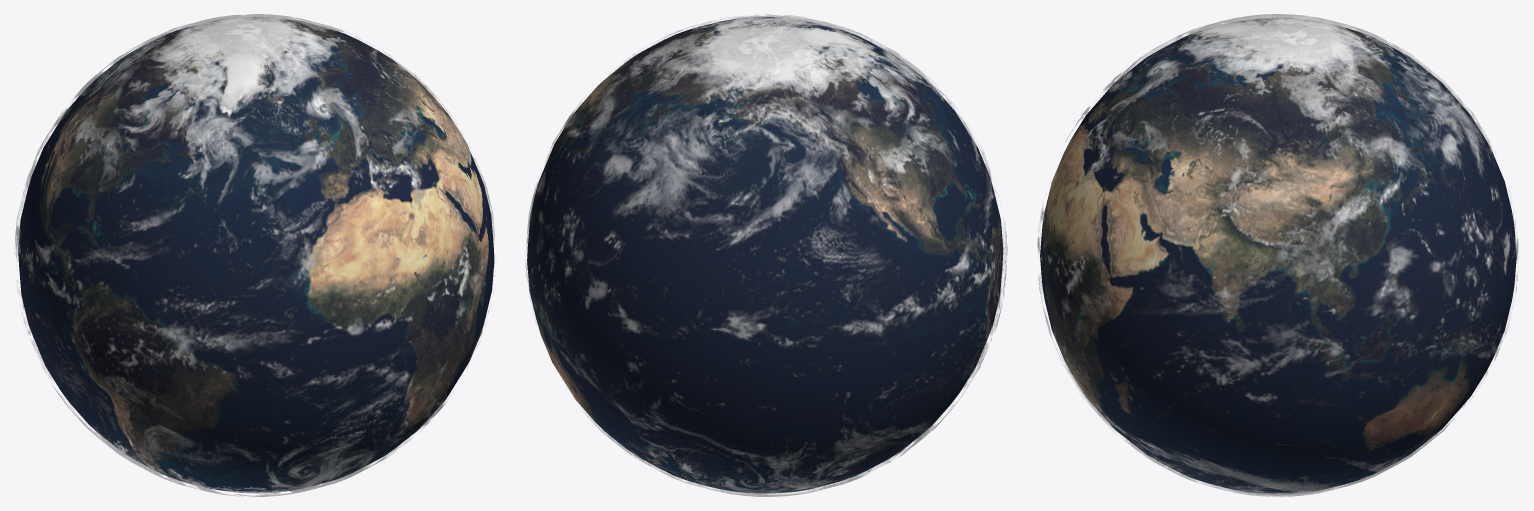
File: planet_earth.glb
3 renders of one model, left to right at view 1: azimuth 30°, elevation 25°; view 2: azimuth 150°, elevation 25°; view 3: azimuth 270°, elevation 25°, orthographic.
Parts seen in each view (by area): view 1: _1_-_Default_1, _2_-_Default_1; view 2: _1_-_Default_1, _2_-_Default_1; view 3: _1_-_Default_1, _2_-_Default_1.
Part boxes in pixels (bbox=[...]): _1_-_Default_1: bbox=[18, 17, 494, 493]; _2_-_Default_1: bbox=[15, 14, 494, 496]; _1_-_Default_1: bbox=[527, 17, 1003, 493]; _2_-_Default_1: bbox=[526, 14, 1007, 496]; _1_-_Default_1: bbox=[1040, 18, 1516, 494]; _2_-_Default_1: bbox=[1037, 14, 1518, 496].
Bounding box in the file's own units: 0.8366 × 0.8366 × 0.8366.
2 materials, 2 textured.
